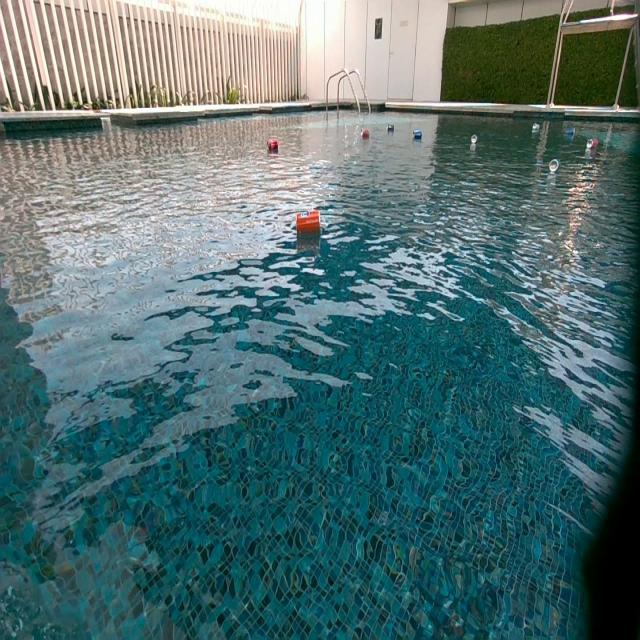Cans: (294, 210, 318, 234), (268, 139, 280, 152), (588, 138, 600, 150), (550, 160, 559, 173), (564, 128, 575, 138), (360, 129, 369, 141), (414, 130, 424, 140), (531, 121, 540, 131), (469, 134, 477, 144), (386, 124, 396, 132)
